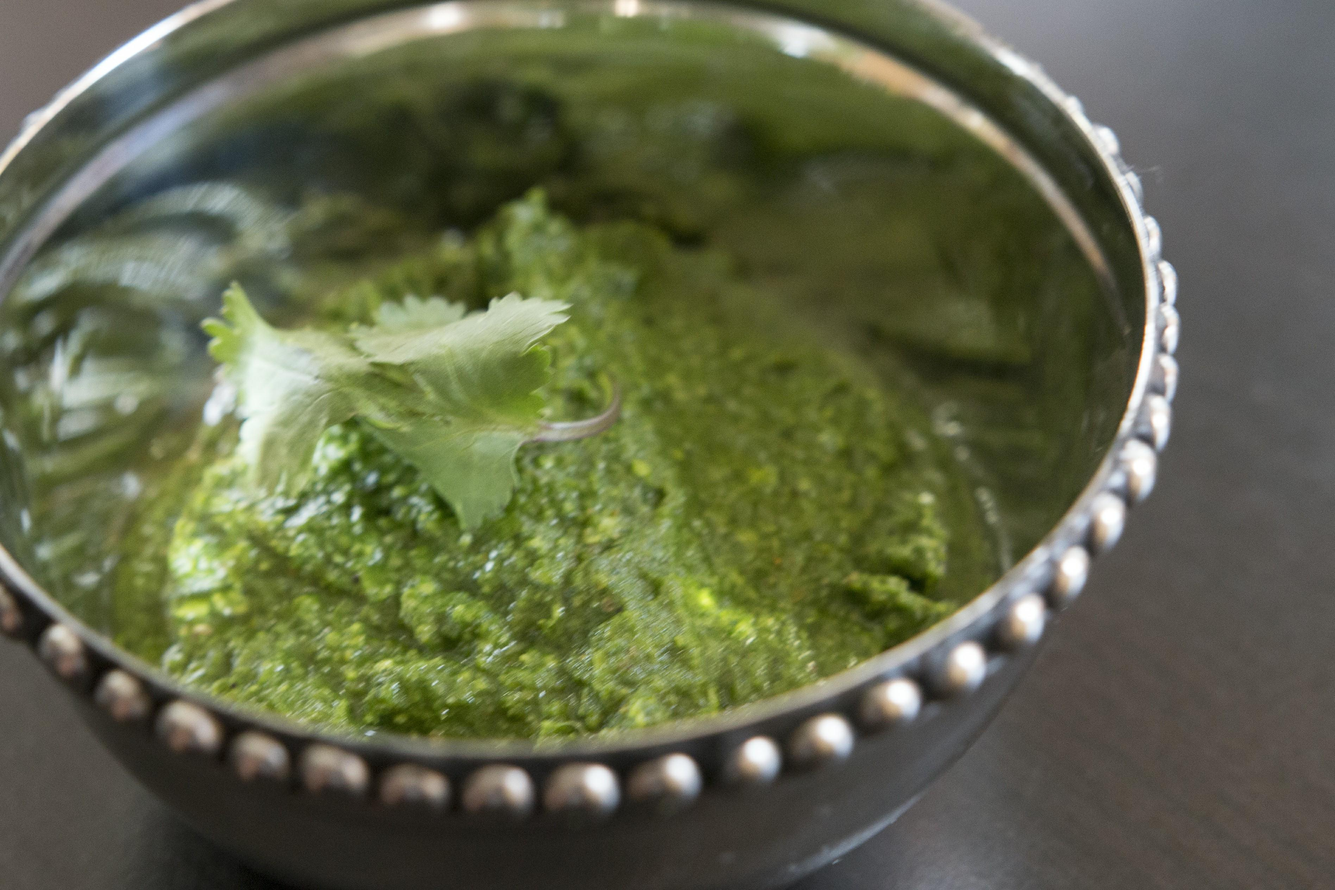GreenChutney: (111, 179, 995, 739)
